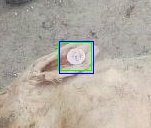text: (58, 42, 91, 70)
